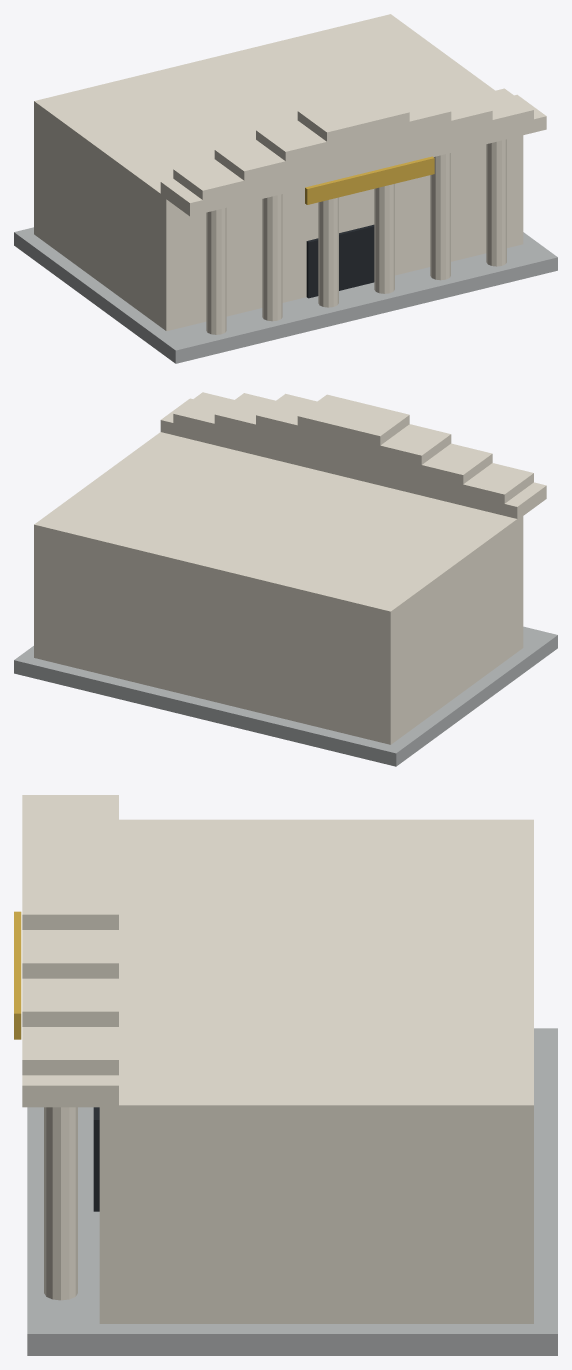
Rendered from bank.glb.
The picture shows the model from 3 angles, top to bottom: view 1: azimuth 30°, elevation 25°; view 2: azimuth 150°, elevation 25°; view 3: azimuth 270°, elevation 25°; orthographic projection. The views are drawn at different scales.
Visible parts, largest first — view 1: Cube.001; view 2: Cube.001; view 3: Cube.001.
Part boxes in pixels (x1,y1,x2,y2): Cube.001: [14, 14, 557, 363]; Cube.001: [14, 392, 557, 766]; Cube.001: [14, 795, 557, 1355].
Size of the model in its own units: 30 by 14.7 by 22.55.
